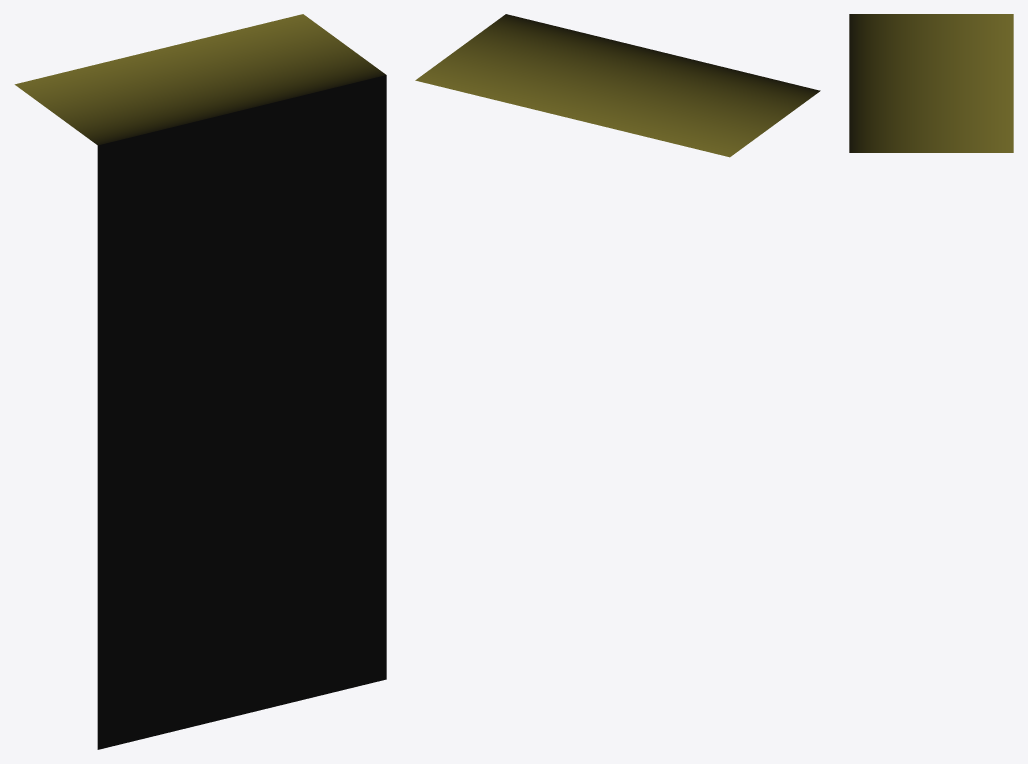
3 renders of one model, left to right at view 1: azimuth 30°, elevation 25°; view 2: azimuth 150°, elevation 25°; view 3: azimuth 270°, elevation 25°, orthographic. The views are drawn at different scales.
Size of the model in its own units: 1 by 2 by 0.5.
1 material, 1 textured.
